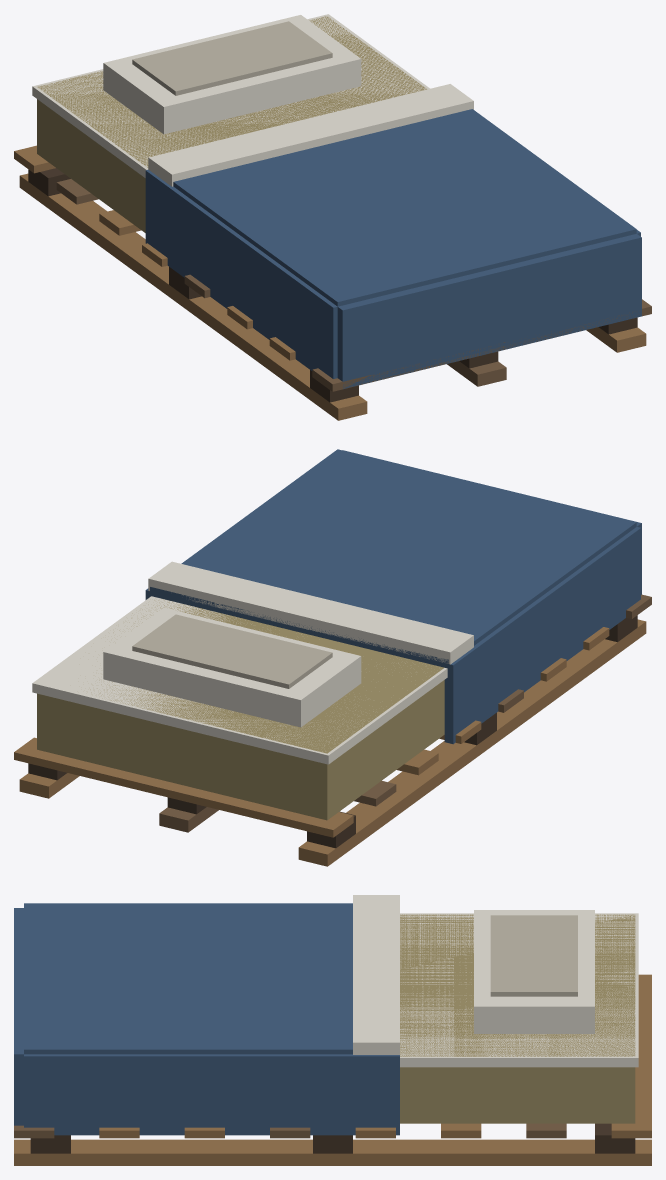
The model's file is base_bed.glb.
3 renders of one model, top to bottom at view 1: azimuth 30°, elevation 25°; view 2: azimuth 150°, elevation 25°; view 3: azimuth 270°, elevation 25°, orthographic.
Visible parts, largest first — view 1: base_bed; view 2: base_bed; view 3: base_bed.
Part boxes in pixels (x1,y1,x2,y2): base_bed: [14, 14, 651, 420]; base_bed: [14, 449, 651, 866]; base_bed: [14, 895, 651, 1165].
Size of what is drawn, in the model's own units: 1.1 by 0.45 by 1.9.
Materials: 2 (2 with a texture image).
